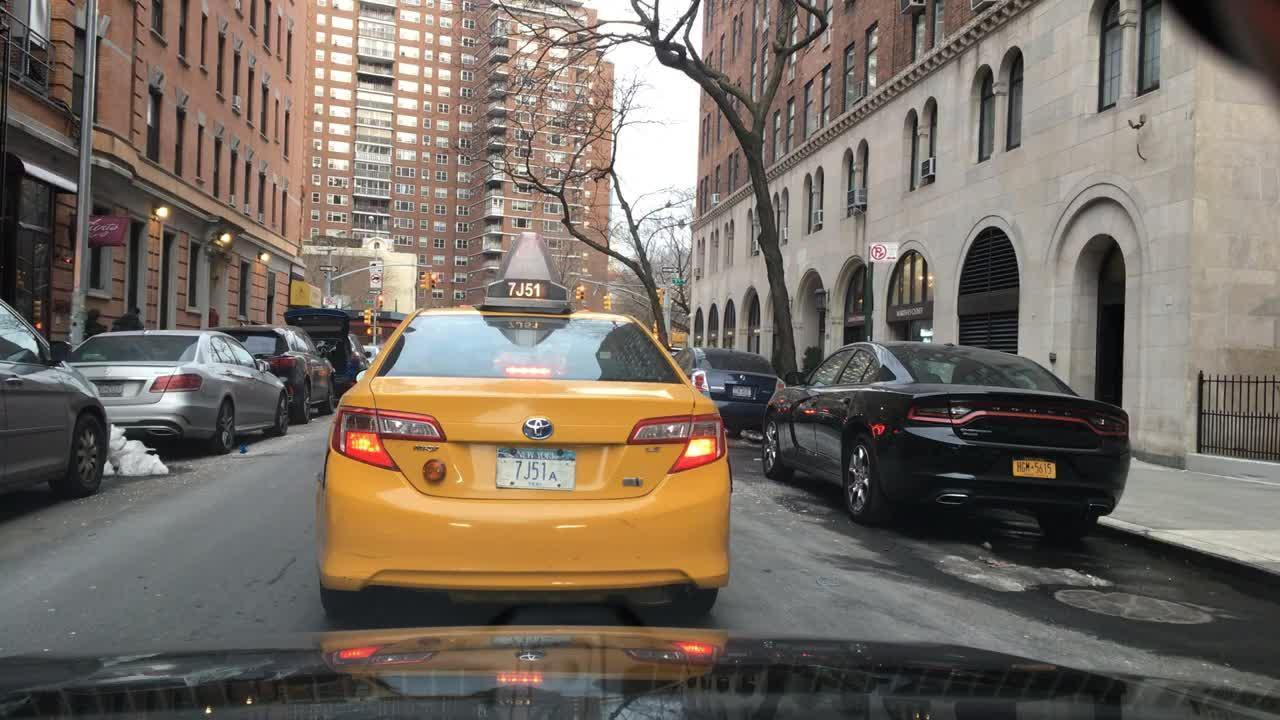Mercedes: (100, 364, 119, 378)
Toyota: (508, 409, 575, 453)
dodge: (973, 397, 1087, 429)
